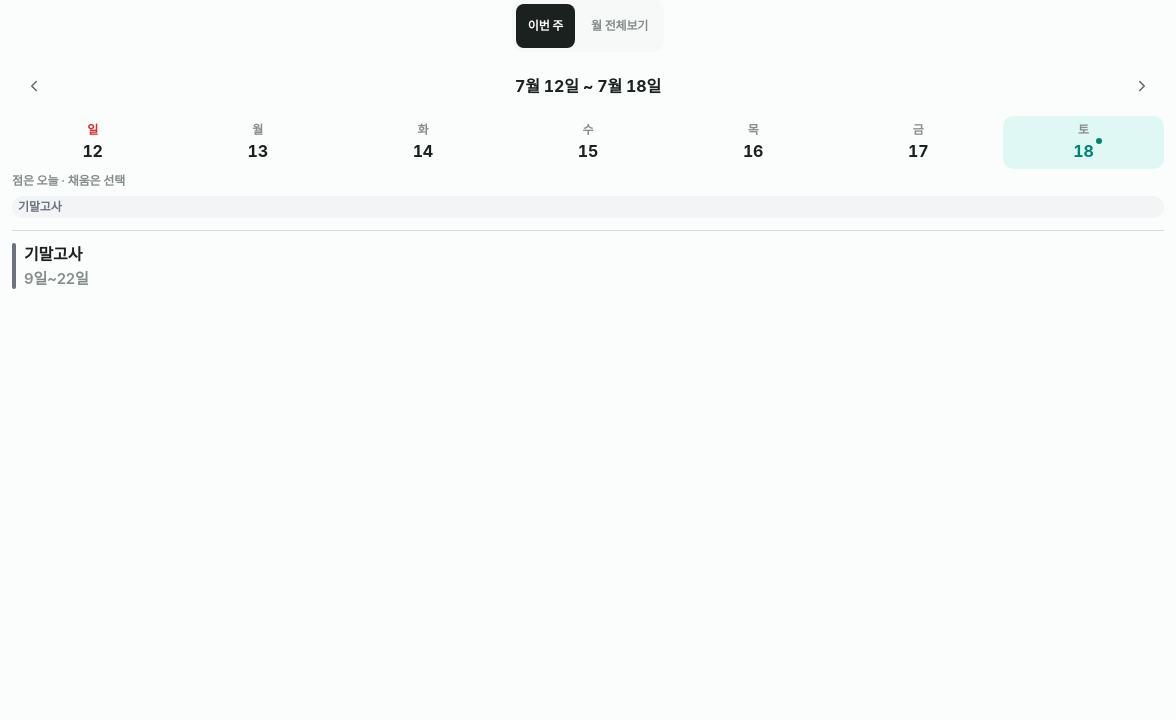
AcademicCalendarGrid — 날짜 선택(월 전체보기) › 이벤트가 없는 날짜를 탭하면 빈 상태 문구를 표시한다
Click the tab "월 전체보기": (620, 26) x1=579 y1=4 x2=660 y2=48
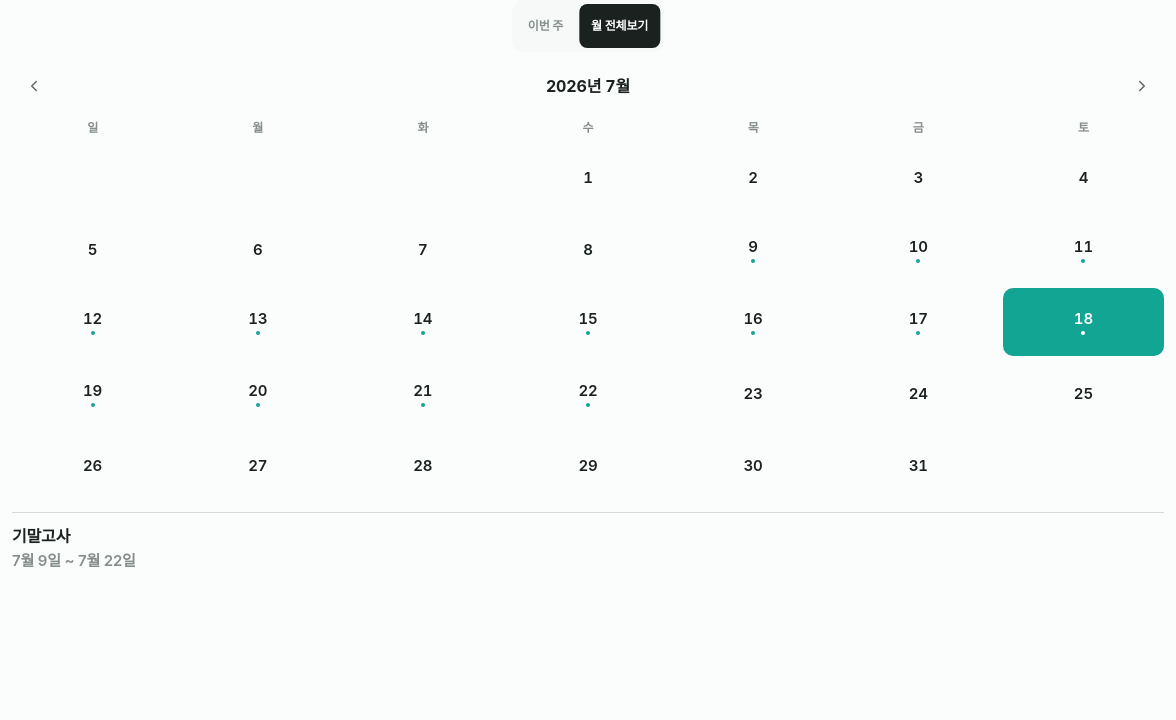
Click the button with test id "cal-day-2026-07-25": (1083, 394) x1=1003 y1=360 x2=1164 y2=428
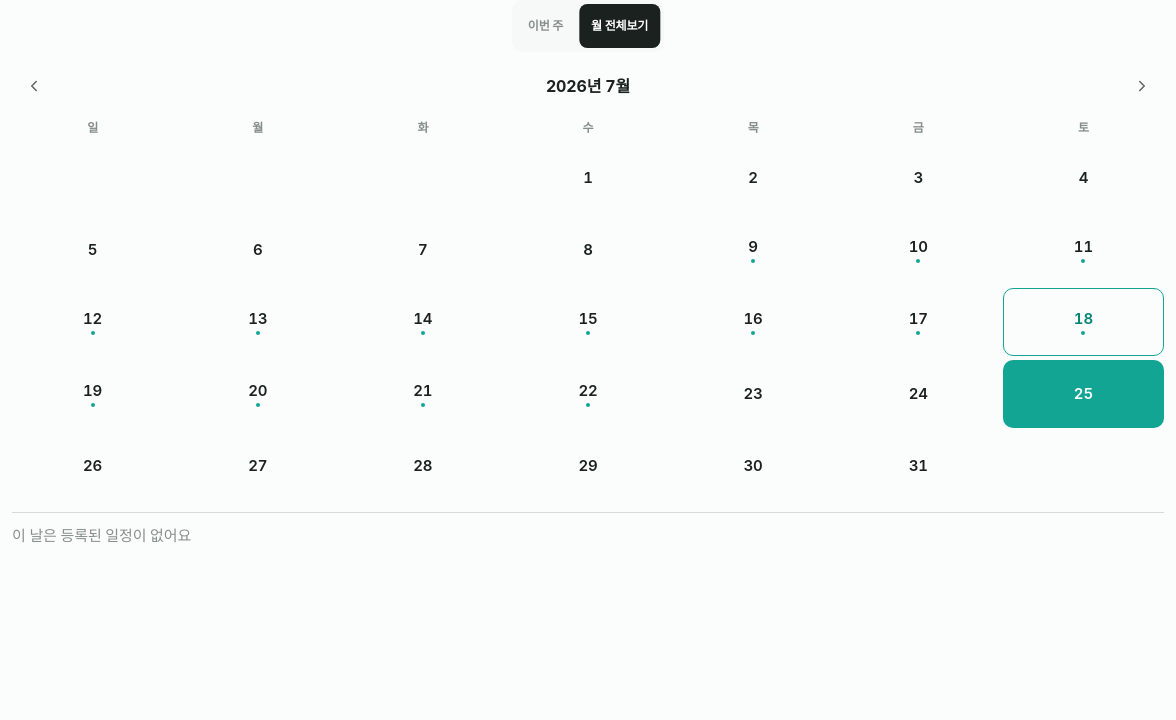
Check: the text "이 날은 등록된 일정이 없어요" is shown, box x1=12 y1=526 x2=191 y2=545
